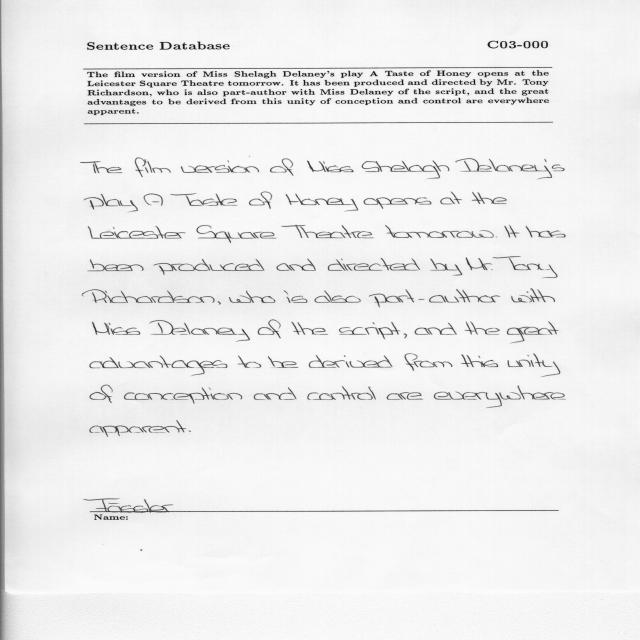word: (434, 386, 566, 408), (90, 355, 227, 376), (369, 289, 500, 307), (455, 159, 565, 180), (149, 320, 250, 342), (124, 387, 242, 404), (82, 289, 215, 303), (154, 259, 265, 275), (362, 161, 449, 179), (90, 420, 186, 436), (197, 225, 277, 243), (493, 256, 558, 278), (385, 225, 494, 238), (286, 194, 358, 212), (88, 226, 186, 239), (508, 353, 561, 377), (281, 225, 374, 238), (328, 258, 420, 271), (507, 322, 559, 344), (309, 355, 392, 368), (339, 322, 400, 339), (181, 160, 259, 173), (307, 386, 376, 400), (85, 194, 138, 212), (170, 193, 238, 206), (405, 353, 453, 371), (364, 197, 432, 209), (135, 158, 171, 177), (88, 259, 144, 271), (93, 322, 141, 335), (511, 289, 555, 303), (315, 290, 361, 303), (229, 291, 275, 303), (254, 387, 296, 400), (430, 259, 462, 276), (276, 258, 316, 271), (307, 161, 354, 172), (415, 323, 457, 335), (81, 161, 122, 173), (292, 322, 328, 335), (464, 322, 500, 335), (461, 355, 498, 367), (526, 226, 566, 237), (270, 158, 294, 176), (472, 192, 507, 204), (258, 320, 281, 338), (90, 385, 112, 403), (249, 192, 272, 209), (268, 356, 298, 368), (466, 258, 493, 271), (284, 290, 308, 303), (238, 355, 262, 368), (387, 392, 423, 400), (440, 192, 462, 205), (143, 193, 163, 206), (505, 225, 520, 237), (403, 334, 407, 339), (218, 301, 221, 305), (189, 430, 191, 432), (496, 237, 497, 238)
